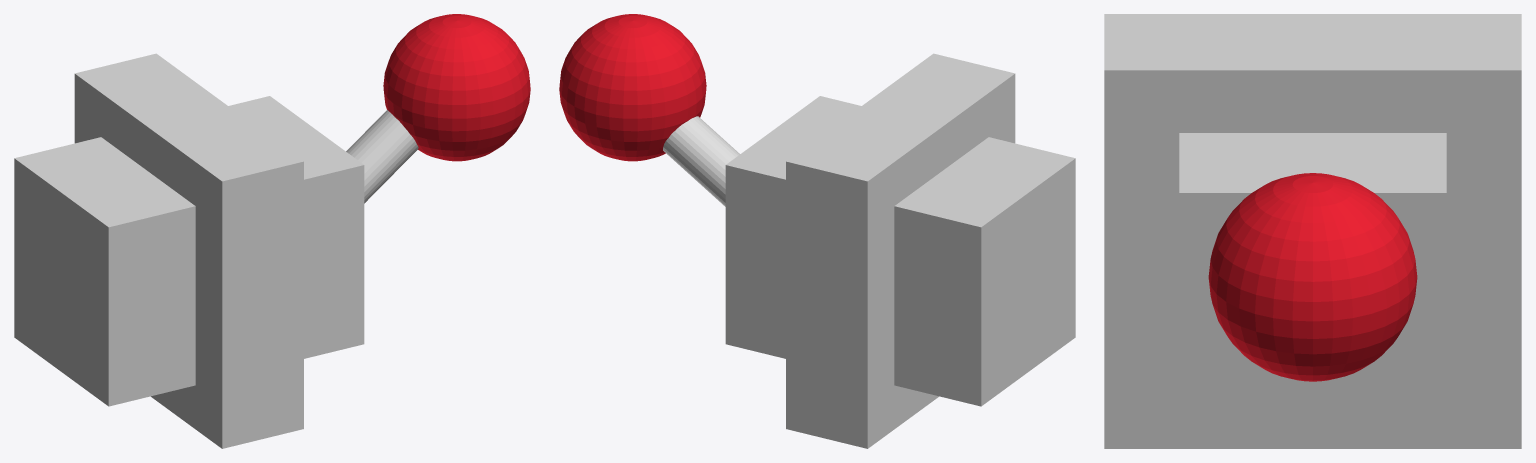
Rendered from levier.fbx.
The picture shows the model from 3 angles, left to right: view 1: azimuth 30°, elevation 25°; view 2: azimuth 150°, elevation 25°; view 3: azimuth 270°, elevation 25°; orthographic projection. The views are drawn at different scales.
Parts seen in each view (by area): view 1: Cube; view 2: Cube; view 3: Cube.
Boxes of the visible parts, x1,y1,x2,y2 form: Cube: [14, 14, 530, 448]; Cube: [559, 14, 1075, 448]; Cube: [1104, 14, 1521, 448].
Bounding box in the file's own units: 359 × 223 × 200.
